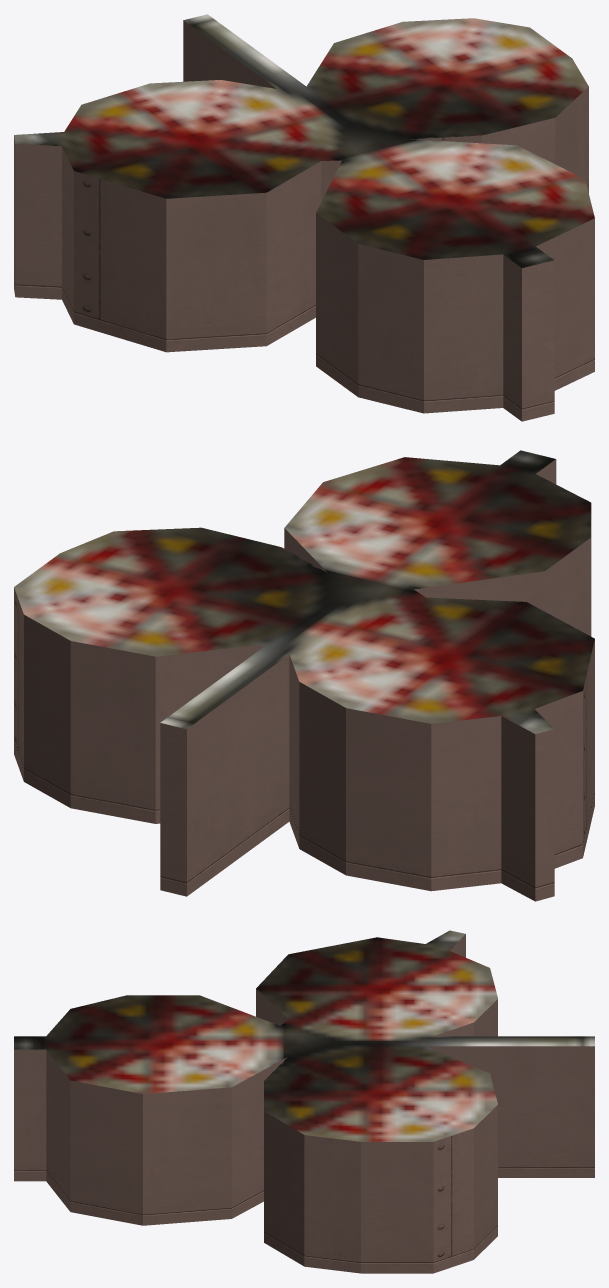
The model's file is fuel_tank_heavy_41.glb.
3 views of the same model, one above another, from view 1: azimuth 30°, elevation 25°; view 2: azimuth 150°, elevation 25°; view 3: azimuth 270°, elevation 25° (orthographic). The views are drawn at different scales.
Visible parts, largest first — view 1: buildings/saxarba/fuel_tanks/fuel_tank_heavy_41; view 2: buildings/saxarba/fuel_tanks/fuel_tank_heavy_41; view 3: buildings/saxarba/fuel_tanks/fuel_tank_heavy_41.
Part boxes in pixels (left/top/right/bottom): buildings/saxarba/fuel_tanks/fuel_tank_heavy_41: left=14, top=14, right=594, bottom=421; buildings/saxarba/fuel_tanks/fuel_tank_heavy_41: left=14, top=450, right=594, bottom=901; buildings/saxarba/fuel_tanks/fuel_tank_heavy_41: left=14, top=930, right=594, bottom=1273.
Bounding box in the file's own units: 62 × 18 × 72.
